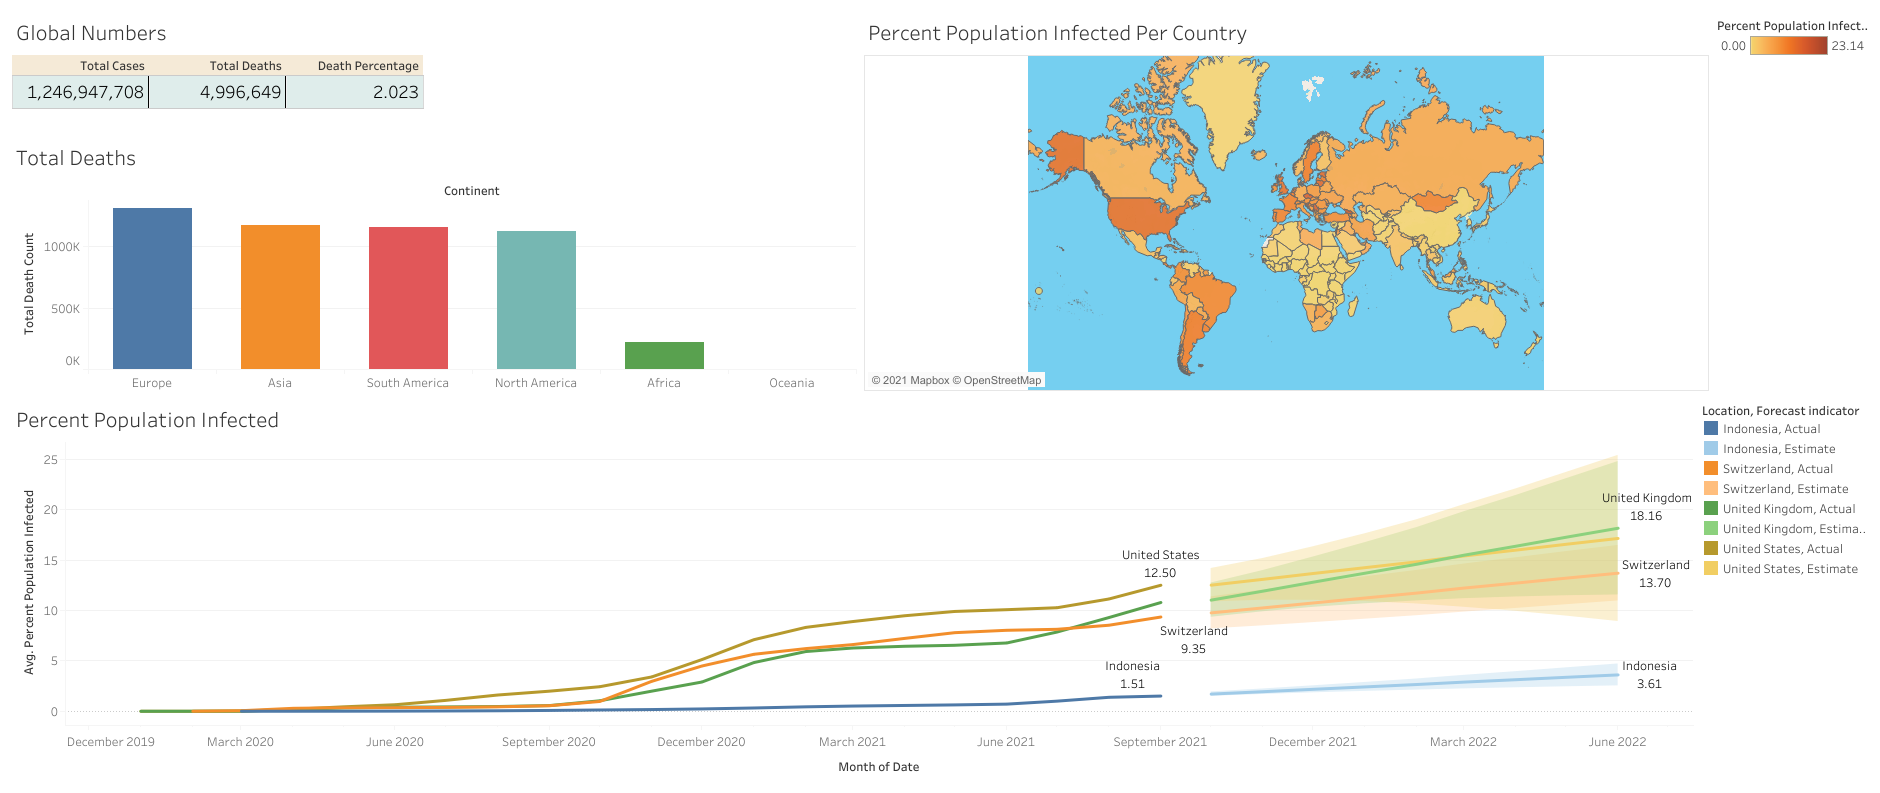

This screenshot's page, from the dashboard's own definition file:
{"tool":"tableau","page":{"name":"Dashboard 1","canvas":[1000,1000],"units":"permille","ordinal":0},"visuals":[{"type":"worksheet","title":"Sheet 1","mark":"Automatic","box":[4.7,8.9,448.5,157.4]},{"type":"worksheet","title":"Sheet 3","mark":"Automatic","box":[453.2,8.9,448.5,488.9]},{"type":"legend","title":"Sheet 3","param":"[federated.0bdxzsr0x0wgz4163kp881f8n9du].[sum:PercentPopulationInfected:qk]","box":[901.7,8.9,93.6,72.5]},{"type":"worksheet","title":"Sheet 2","mark":"Automatic","rows":["TotalDeathCount"],"cols":["location"],"box":[4.7,166.3,448.5,331.6]},{"type":"worksheet","title":"Sheet 4","mark":"Automatic","rows":["PercentPopulationInfected"],"cols":["date"],"box":[4.7,497.9,897,493.2]},{"type":"legend","title":"Sheet 4","param":"[federated.0zofbab0h628xu15b8rio106voff].[none:location:nk]\n[federated.0zofbab0h","box":[901.7,497.9,93.6,493.2]}]}

Visuals, with their boxes on the dashboard's canvas, which has no fixed pixel size, in thousandths of its width and height (x1, y1, x2, y2). These are canvas units, not pixel positions in the 1880x793 screenshot, which may show the page scaled, cropped or inside an application window:
"Sheet 1" worksheet: BBox(5, 9, 453, 166)
"Sheet 3" worksheet: BBox(453, 9, 902, 498)
"Sheet 3" legend: BBox(902, 9, 995, 81)
"Sheet 2" worksheet: BBox(5, 166, 453, 498)
"Sheet 4" worksheet: BBox(5, 498, 902, 991)
"Sheet 4" legend: BBox(902, 498, 995, 991)
